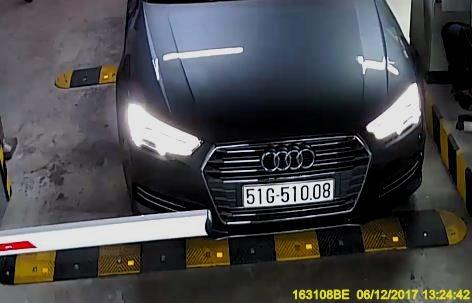plate: (243, 174, 334, 208)
